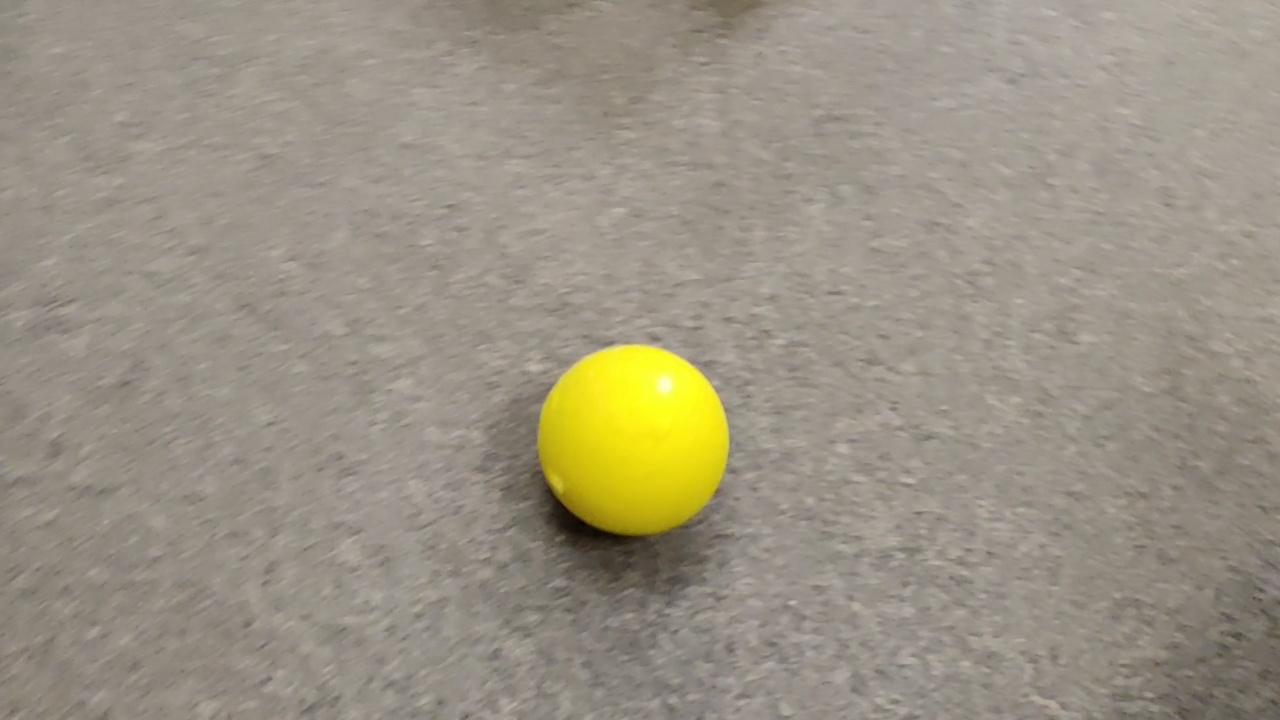Ball: (537, 345, 728, 536)
